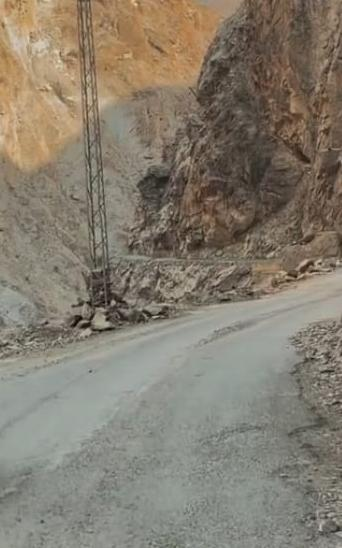right_turn: (0, 269, 342, 502)
